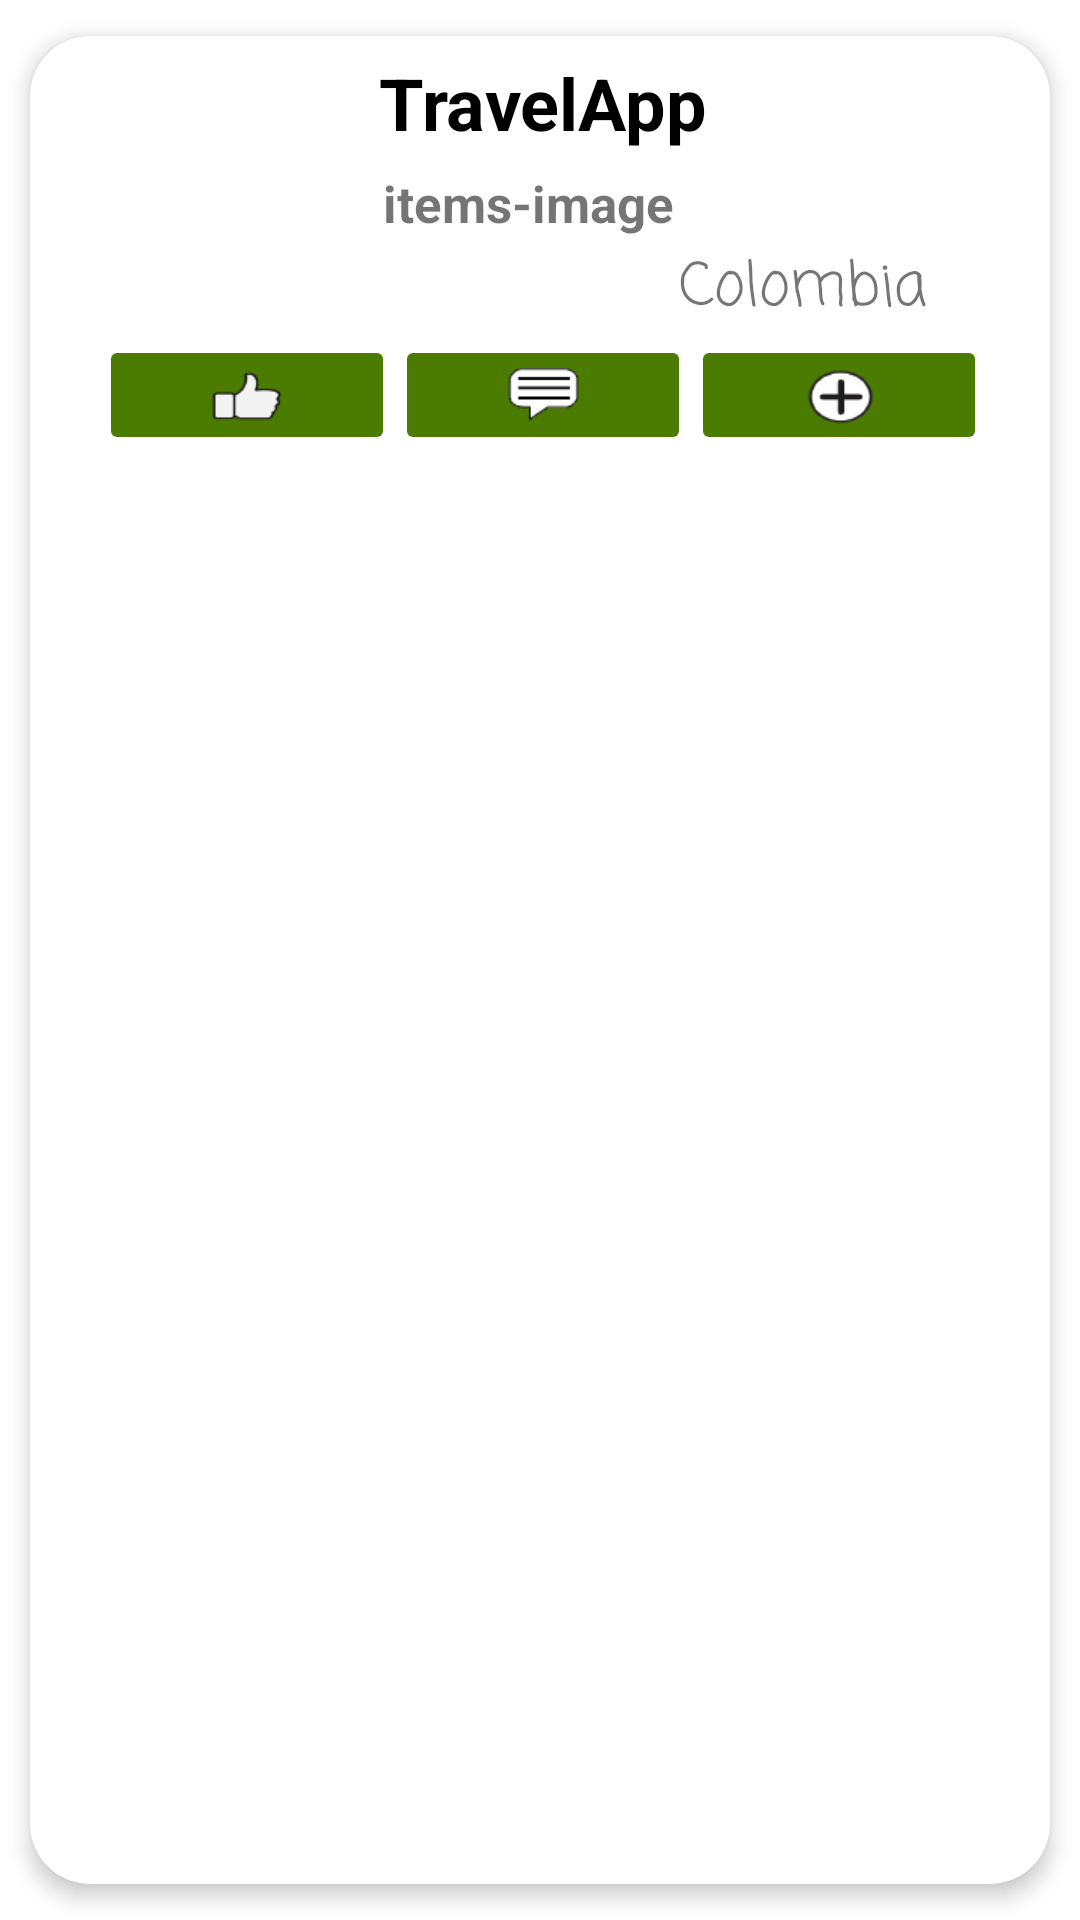

Icon click points for this 1080 x 1920 phone screenshot, format point (x, y):
agregar: point (839, 395)
coment: point (543, 395)
like: point (247, 395)
